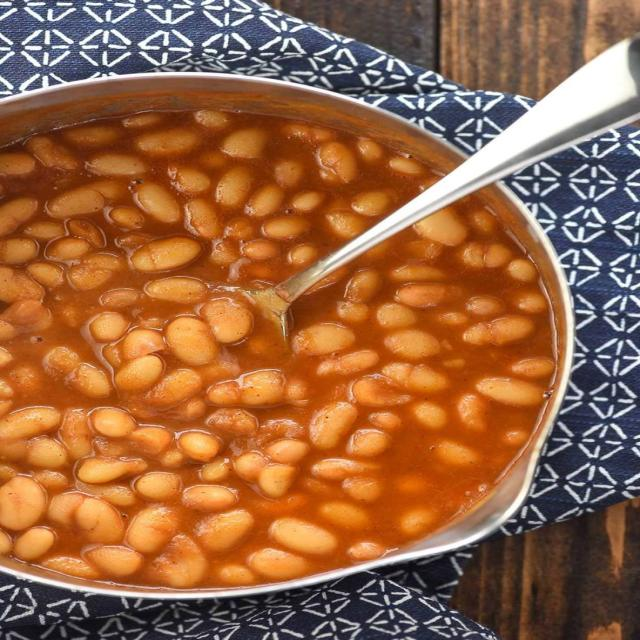beans: (0, 110, 554, 588), (149, 534, 208, 588), (208, 369, 288, 406), (165, 316, 218, 365), (0, 476, 47, 530), (131, 237, 202, 272), (270, 518, 337, 555), (196, 510, 254, 552), (126, 506, 177, 553), (200, 298, 253, 343), (310, 402, 357, 449), (75, 498, 124, 543), (146, 369, 202, 407), (464, 316, 534, 345), (293, 323, 355, 355), (383, 363, 449, 393), (0, 407, 60, 440), (415, 207, 467, 245), (476, 378, 543, 407), (135, 182, 181, 224), (25, 136, 80, 171), (250, 548, 309, 580), (135, 128, 199, 157), (351, 375, 410, 406), (77, 457, 147, 483), (86, 546, 143, 577), (384, 329, 440, 360), (48, 186, 104, 217), (0, 266, 44, 303), (145, 277, 207, 303), (0, 300, 52, 331), (318, 142, 358, 182), (60, 409, 92, 459), (317, 350, 378, 375), (318, 501, 372, 529), (68, 363, 112, 397), (0, 197, 38, 236), (216, 167, 253, 207), (87, 153, 147, 177), (182, 485, 237, 511), (311, 459, 376, 481), (120, 329, 165, 360), (221, 128, 267, 158), (257, 464, 297, 498), (81, 484, 137, 508), (42, 556, 100, 579), (178, 431, 221, 462), (26, 437, 67, 469), (128, 426, 173, 455), (91, 408, 136, 437), (207, 409, 257, 435), (48, 492, 86, 526), (62, 124, 120, 146), (397, 283, 450, 307), (247, 185, 284, 218), (491, 316, 534, 344), (347, 429, 390, 457), (89, 312, 129, 342), (345, 269, 381, 302), (325, 211, 367, 239), (169, 167, 210, 195), (458, 394, 489, 430), (399, 508, 437, 537), (265, 439, 309, 464), (0, 237, 39, 265), (45, 237, 90, 261), (282, 122, 334, 142), (351, 190, 391, 216), (263, 217, 310, 239), (436, 441, 479, 465), (390, 264, 446, 282), (377, 303, 417, 328), (43, 347, 80, 374), (234, 452, 267, 482), (343, 477, 382, 502), (411, 402, 447, 429), (0, 152, 35, 177), (89, 179, 127, 202), (209, 239, 240, 267), (511, 358, 554, 378), (108, 206, 145, 229), (32, 470, 70, 492), (217, 564, 256, 585), (22, 222, 64, 241), (274, 160, 303, 187), (194, 110, 233, 130), (242, 239, 279, 260), (200, 458, 231, 483), (466, 296, 504, 316), (347, 542, 387, 561), (223, 218, 255, 241), (506, 259, 538, 282), (337, 301, 369, 324), (514, 292, 548, 313), (290, 192, 324, 213), (470, 209, 497, 234), (198, 149, 229, 170), (485, 243, 511, 268), (357, 138, 383, 163), (389, 156, 423, 175), (288, 244, 318, 265), (0, 530, 12, 555), (0, 347, 13, 368)
